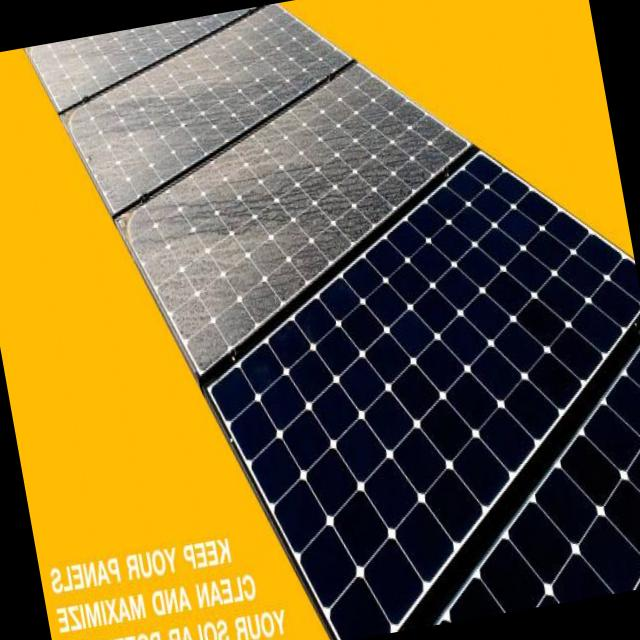faulty: (32, 6, 467, 377)
no faulty: (213, 155, 640, 640)
